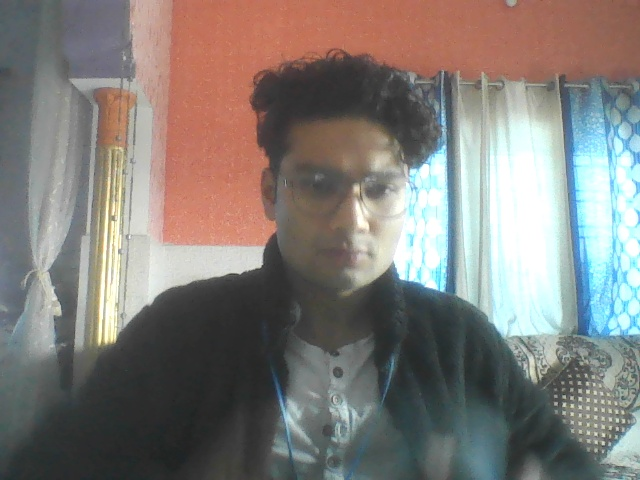real: (250, 61, 424, 307)
